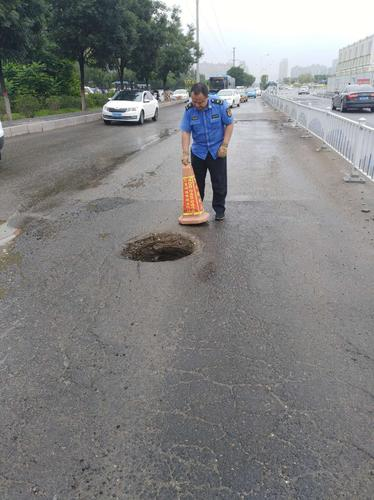lose: (104, 223, 208, 269)
